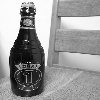beer: (9, 2, 52, 100)
